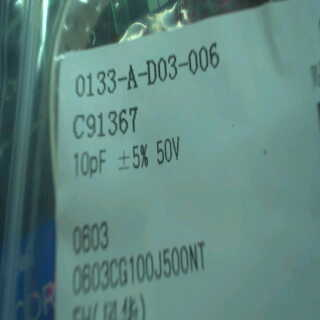10pF: (63, 144, 112, 176)
